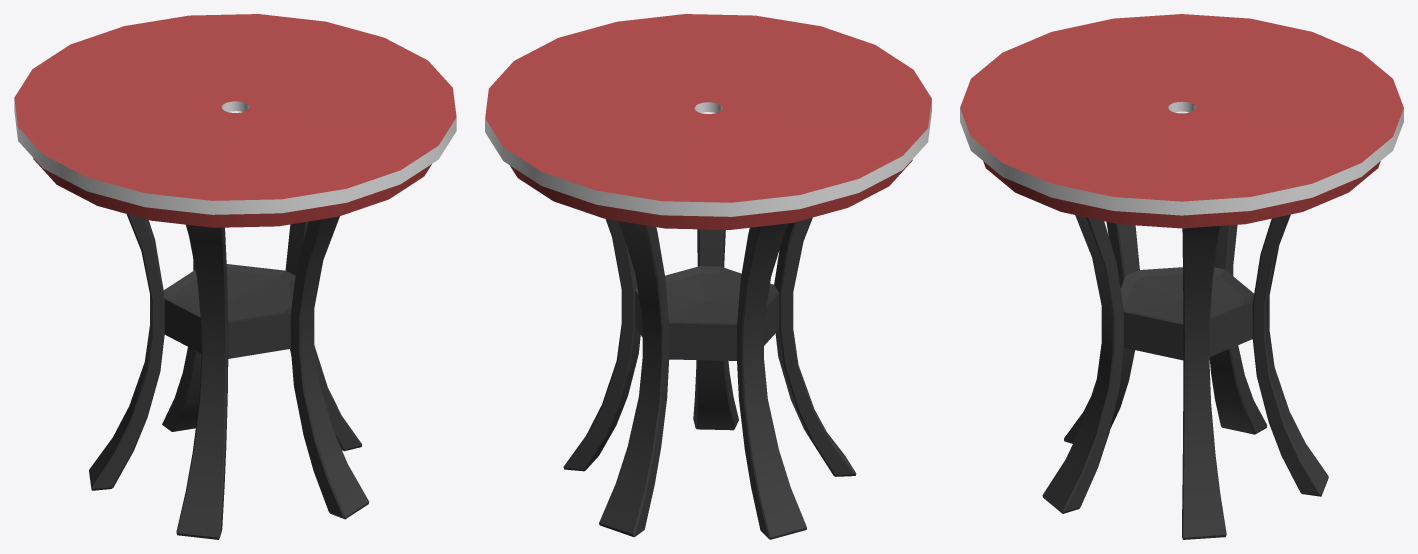
The model's file is SM_Prop_Cafe_Table_Outdoor_02.fbx.
The picture shows the model from 3 angles, left to right: view 1: azimuth 30°, elevation 25°; view 2: azimuth 150°, elevation 25°; view 3: azimuth 270°, elevation 25°; orthographic projection.
Parts seen in each view (by area): view 1: pCylinder7; view 2: pCylinder7; view 3: pCylinder7.
Boxes of the visible parts, left/top/right/bottom form: pCylinder7: left=14, top=14, right=456, bottom=539; pCylinder7: left=485, top=14, right=931, bottom=539; pCylinder7: left=960, top=14, right=1403, bottom=539.
Bounding box in the file's own units: 103 × 95.1 × 103.
